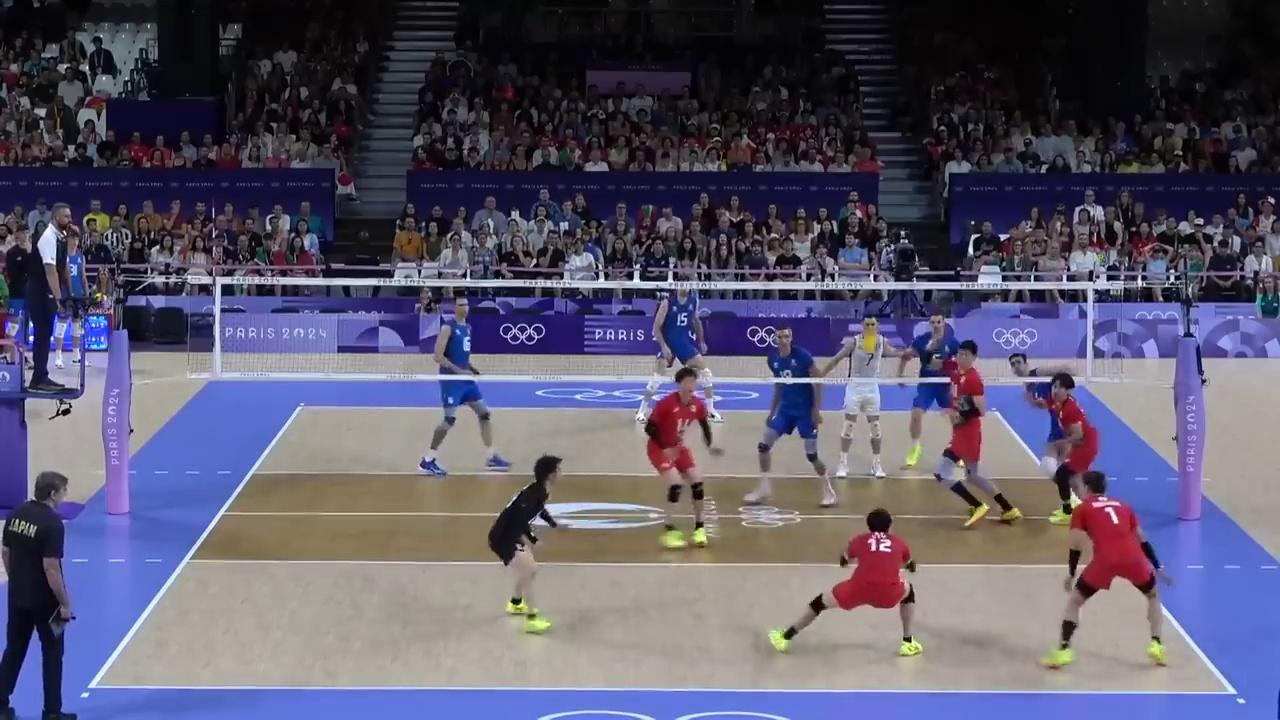ball: (863, 336, 878, 352)
